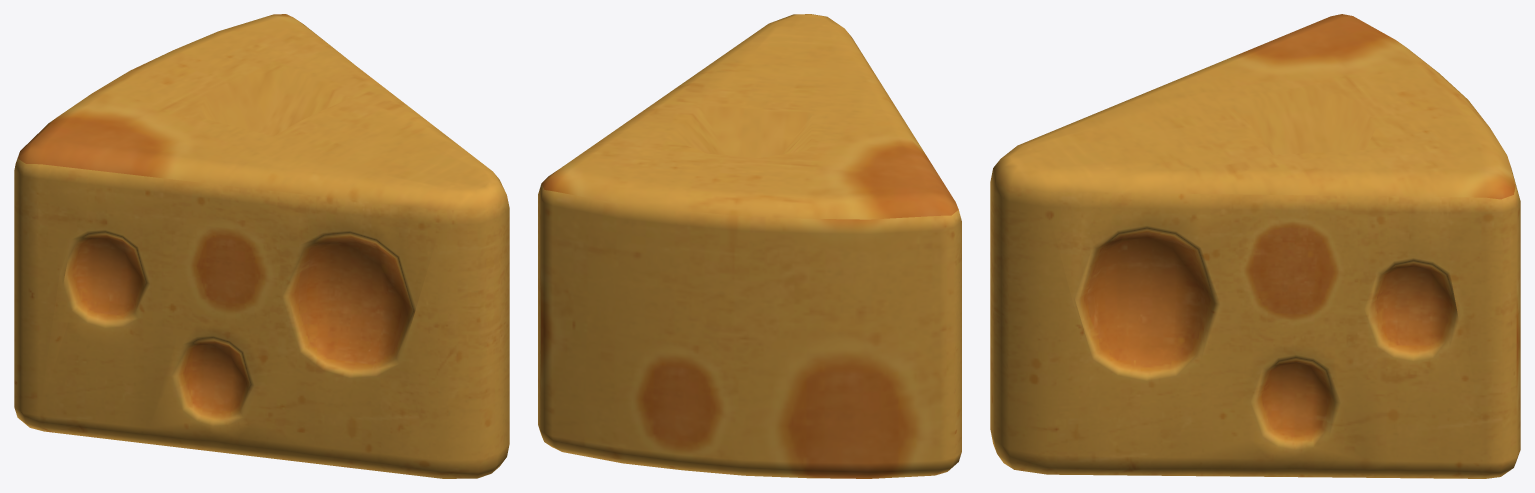
Rendered from cheese.fbx.
The picture shows the model from 3 angles, left to right: view 1: azimuth 30°, elevation 25°; view 2: azimuth 150°, elevation 25°; view 3: azimuth 270°, elevation 25°; orthographic projection. The views are drawn at different scales.
Visible parts, largest first — view 1: cheese; view 2: cheese; view 3: cheese.
Part boxes in pixels (x1=…): cheese: x1=14, y1=14, x2=509, y2=478; cheese: x1=538, y1=14, x2=961, y2=478; cheese: x1=990, y1=14, x2=1520, y2=478.
Bounding box in the file's own units: 75.3 × 58.12 × 91.89.
